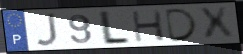9: (67, 13, 93, 45)
D: (164, 7, 201, 43)
H: (129, 9, 166, 43)
J: (34, 12, 59, 48)
L: (100, 10, 132, 46)
X: (197, 6, 236, 42)
